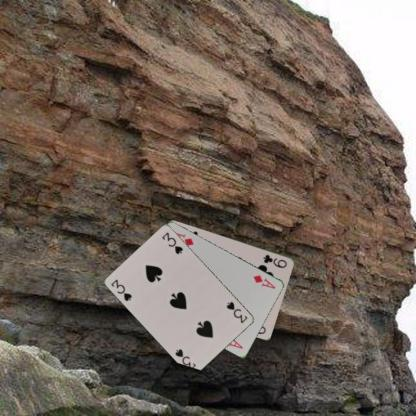3s: (108, 277, 134, 303), (224, 299, 249, 324)
9c: (261, 252, 288, 269)
Ad: (251, 272, 277, 290)
